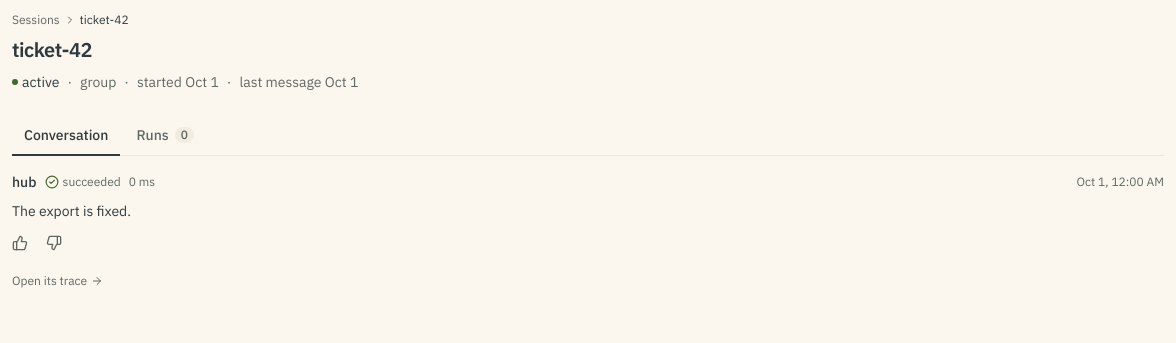
Test case: the note on a 👎 › is sent with Send, replacing the 👎 with the same value and a note, inline
This screenshot has width=1176, height=343.
Check: the heading "ticket-42" is shown, box [12, 36, 92, 63]
Click the button named "This answer was wrong" at point(54, 243), box [38, 227, 70, 259]
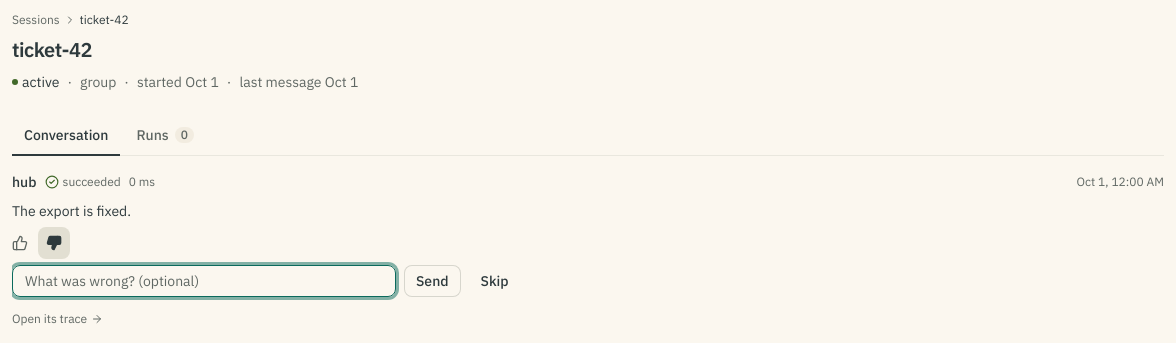
Type "Wrong file" into the field labelled "What was wrong?" at point(204, 281), box [12, 265, 396, 297]
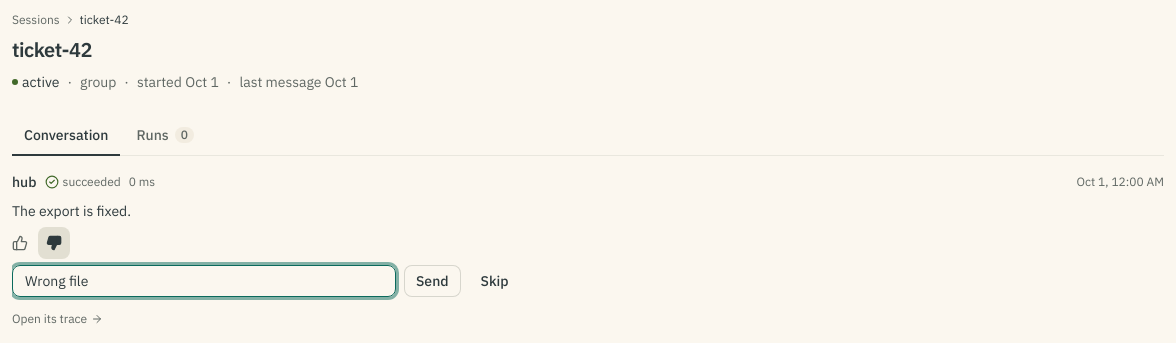
Click the button "Send" at point(432, 281), box [404, 265, 461, 297]
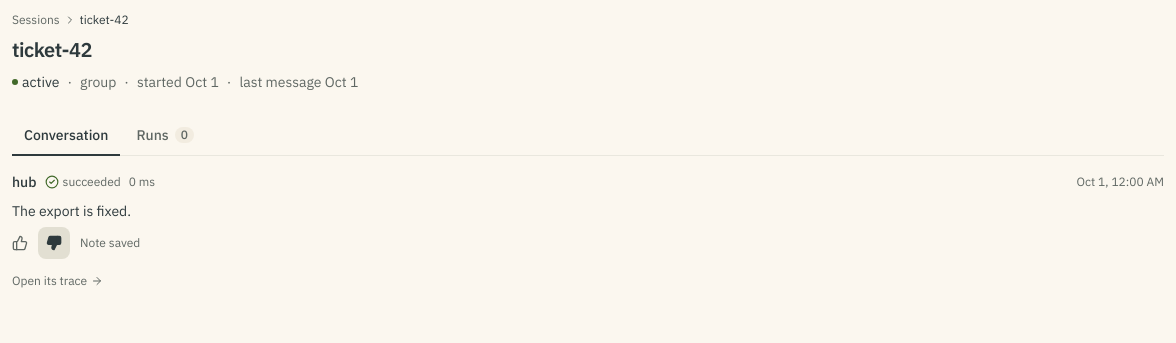
Check: the field labelled "What was wrong?" is not shown
Check: the text "Note saved" is shown, box [72, 235, 140, 251]
